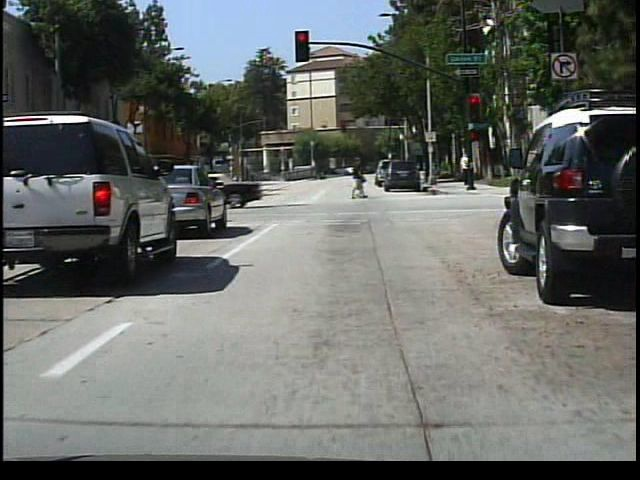person: (346, 158, 372, 202), (455, 149, 473, 190)
